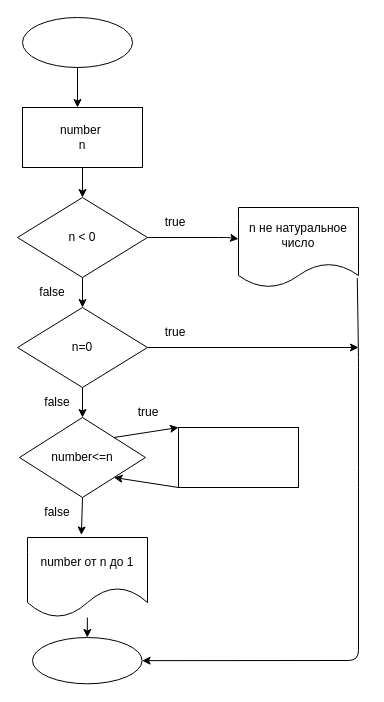
Image size: 384x702. Some labels were removed from this diagram. Here are the shapes that lost their labels. From the top down, the centre of each, then its label:
At pixel 77 42: "start".
At pixel 238 457: "number = n-1".
At pixel 87 660: "end".
